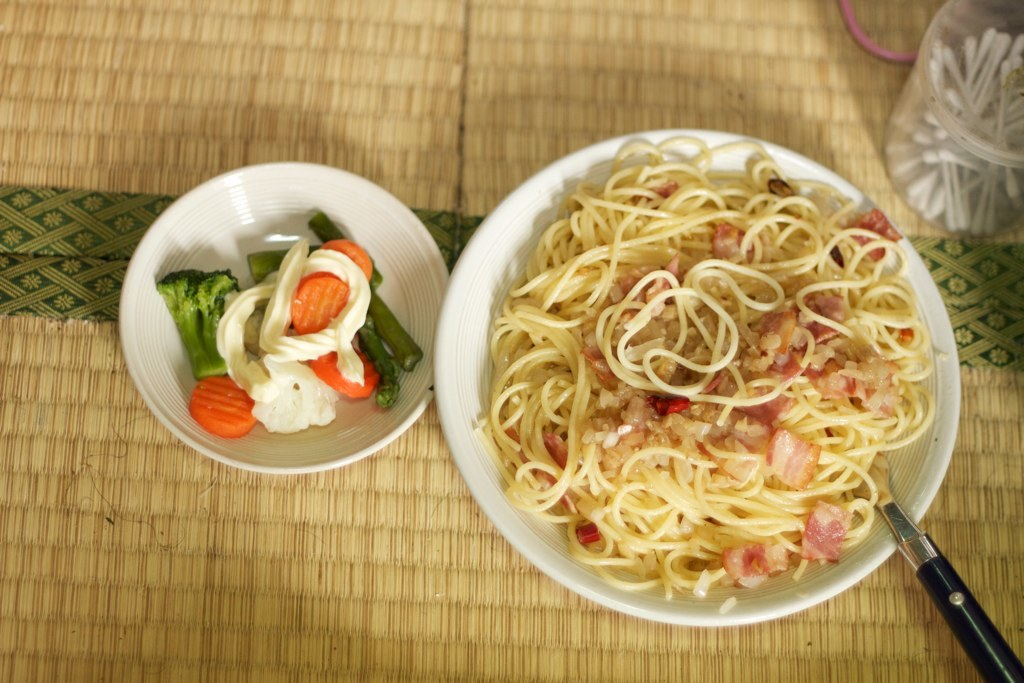pasta: (473, 158, 927, 617)
